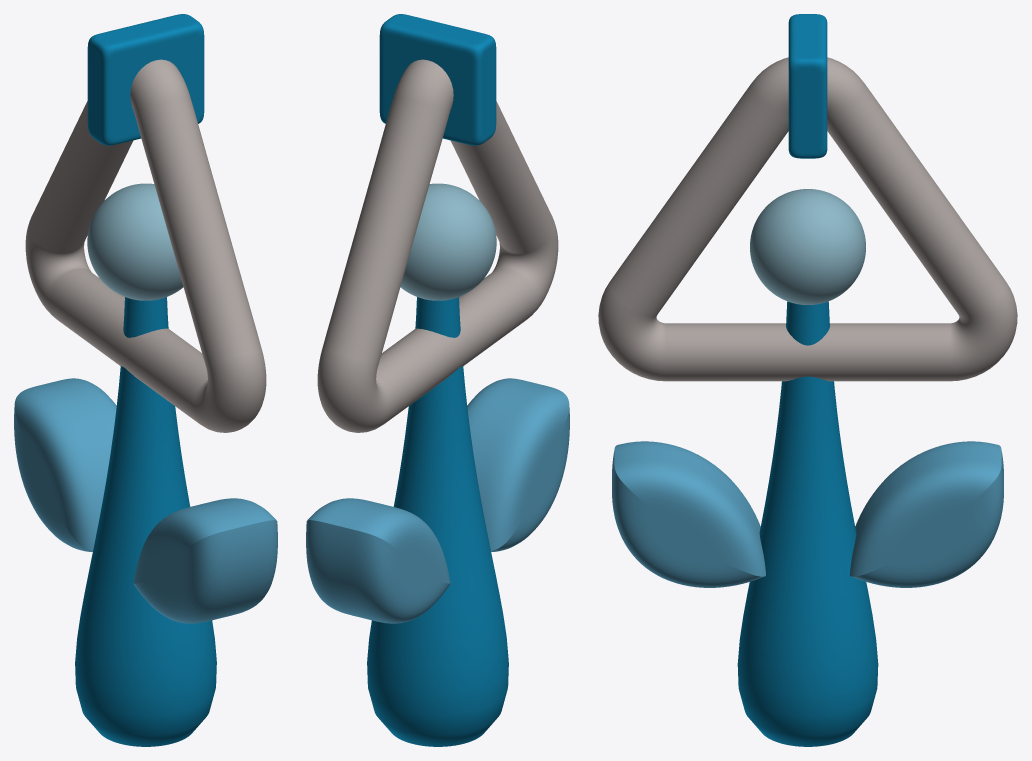
File: triangle_2.fbx
The picture shows the model from 3 angles, left to right: view 1: azimuth 30°, elevation 25°; view 2: azimuth 150°, elevation 25°; view 3: azimuth 270°, elevation 25°; orthographic projection.
Visible parts, largest first — view 1: 圖層 05; view 2: 圖層 05; view 3: 圖層 05.
Boxes of the visible parts, bbox=[...] form: 圖層 05: bbox=[14, 14, 277, 746]; 圖層 05: bbox=[306, 14, 569, 746]; 圖層 05: bbox=[598, 14, 1017, 746].
Bounding box in the file's own units: 726 × 4000 × 2164.
